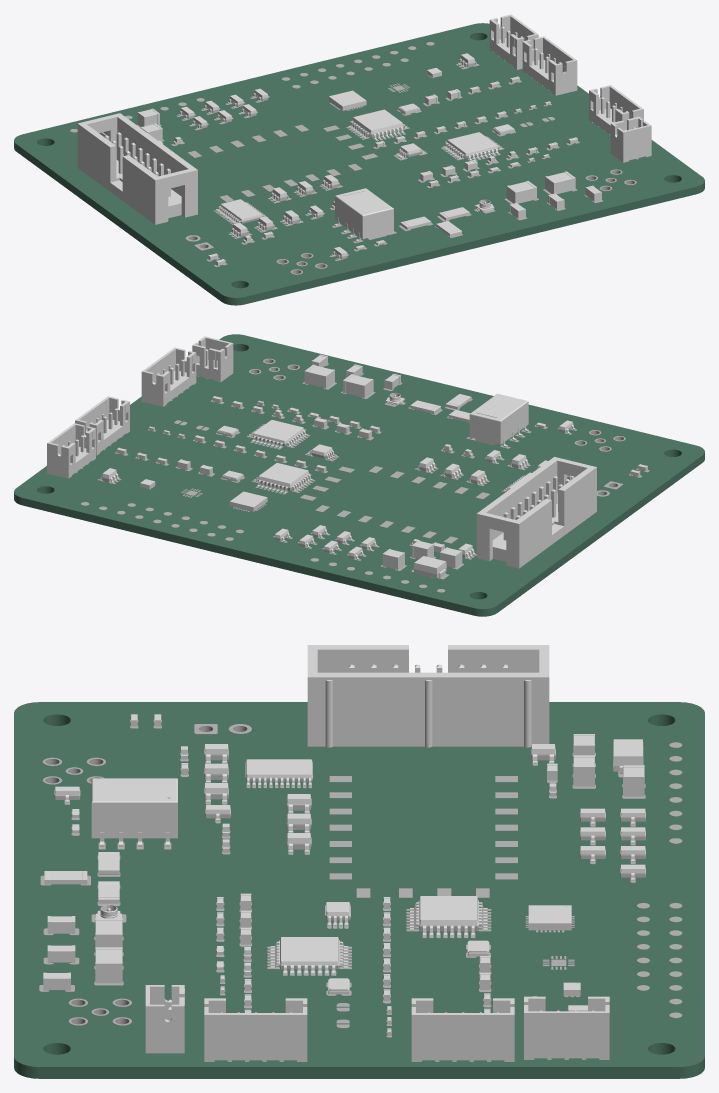
File: pcb-d-aprs.glb
3 renders of one model, top to bottom at view 1: azimuth 30°, elevation 25°; view 2: azimuth 150°, elevation 25°; view 3: azimuth 270°, elevation 25°, orthographic. The views are drawn at different scales.
Parts seen in each view (by area): view 1: =>[0:1:1:31], J_HARN1, =>[0:1:1:30], J_HS1, K1, J_USB3, J_HS2, J_VGG, U4, U6, U16, L2 (+2 smaller); view 2: =>[0:1:1:31], J_HARN1, =>[0:1:1:30], K1, J_HS2, J_USB3, J_HS1, J_VGG, U4, U6, D1, L2 (+2 smaller); view 3: =>[0:1:1:31], J_HARN1, =>[0:1:1:30], J_HS2, J_HS1, K1, J_USB3, J_VGG, U4, U6, U16, U3 (+5 smaller).
Boxes of the visible parts, box(x1,y1,x2,y2) form: =>[0:1:1:31]: box(14, 23, 704, 305); J_HARN1: box(77, 113, 197, 224); =>[0:1:1:30]: box(70, 42, 636, 274); J_HS1: box(522, 36, 577, 95); K1: box(334, 188, 394, 241); J_USB3: box(489, 14, 538, 69); J_HS2: box(589, 85, 643, 134); J_VGG: box(610, 116, 651, 162); U4: box(348, 109, 407, 139); U6: box(443, 132, 502, 160); U16: box(215, 199, 264, 223); L2: box(506, 181, 536, 203); =>[0:1:1:31]: box(14, 334, 704, 616); J_HARN1: box(476, 457, 596, 568); =>[0:1:1:30]: box(81, 358, 649, 592); K1: box(469, 393, 528, 447); J_HS2: box(141, 347, 196, 406); J_USB3: box(47, 423, 95, 478); J_HS1: box(75, 396, 129, 455); J_VGG: box(192, 336, 233, 382); U4: box(253, 463, 313, 493); U6: box(248, 420, 308, 448); D1: box(413, 556, 446, 577); L2: box(343, 374, 373, 397); =>[0:1:1:31]: box(14, 702, 704, 1078); J_HARN1: box(307, 645, 549, 747); =>[0:1:1:30]: box(39, 720, 682, 1037); J_HS2: box(204, 998, 307, 1061); J_HS1: box(411, 998, 514, 1061); K1: box(91, 778, 177, 846); J_USB3: box(524, 996, 609, 1059); J_VGG: box(145, 985, 184, 1053); U4: box(410, 896, 487, 935); U6: box(270, 937, 348, 973); U16: box(245, 759, 312, 786); U3: box(528, 905, 571, 930).
Bounding box in the file's own units: 0.1 × 0.0125 × 0.08.
